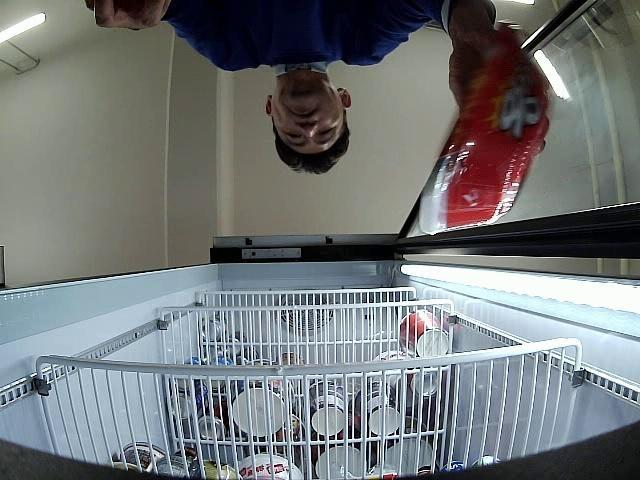10_wangTtukkeong: (418, 26, 545, 236)
